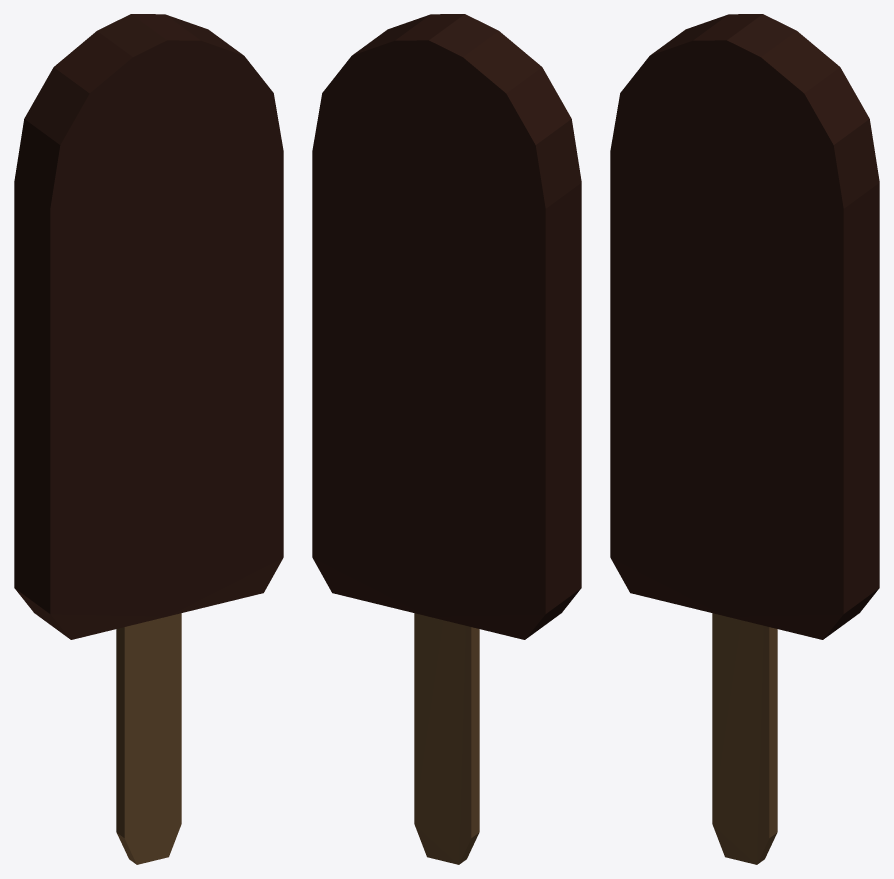
File: popsicle.glb
3 renders of one model, left to right at view 1: azimuth 30°, elevation 25°; view 2: azimuth 150°, elevation 25°; view 3: azimuth 330°, elevation 25°, orthographic.
Parts seen in each view (by area): view 1: Popsicle_Chocolate; view 2: Popsicle_Chocolate; view 3: Popsicle_Chocolate.
Part boxes in pixels (box(x1,y1,x2,y2)): Popsicle_Chocolate: box(14, 14, 283, 864); Popsicle_Chocolate: box(312, 14, 581, 864); Popsicle_Chocolate: box(610, 14, 879, 864).
Bounding box in the file's own units: 29.11 × 99 × 7.98.
